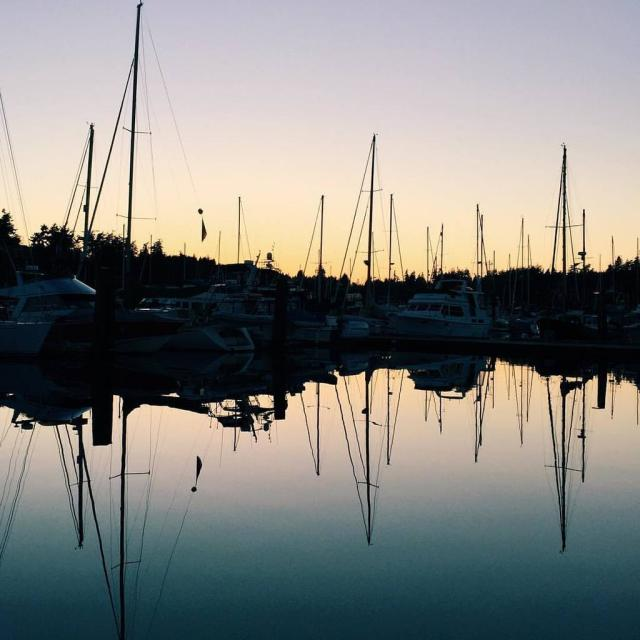Boat: (0, 0, 639, 349), (402, 277, 495, 342)
